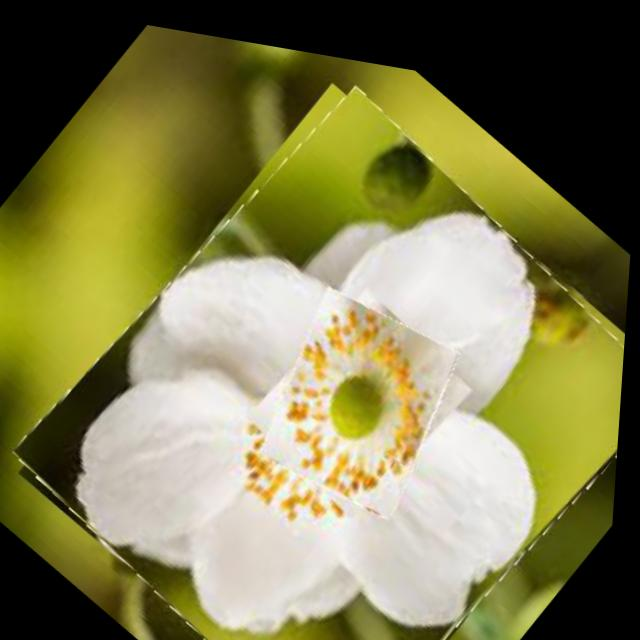Flower: (2, 20, 639, 640), (234, 245, 492, 535)
